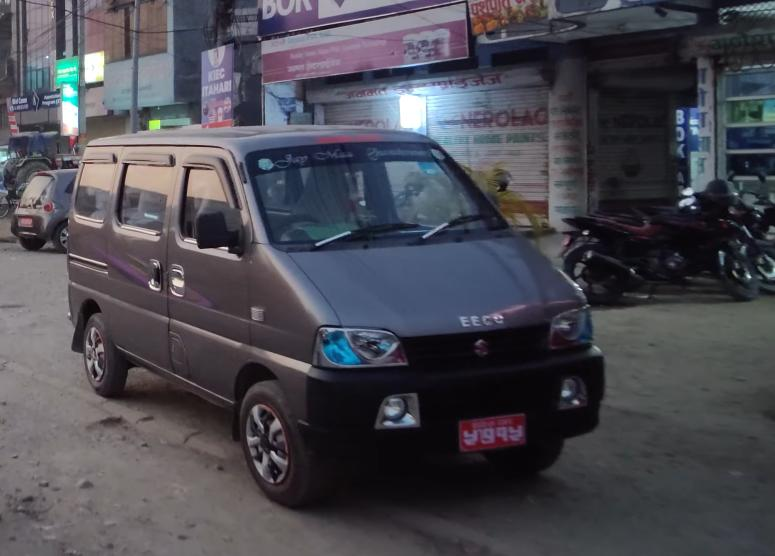bike: (559, 197, 760, 301)
car: (11, 166, 76, 249)
van: (62, 106, 612, 493)
